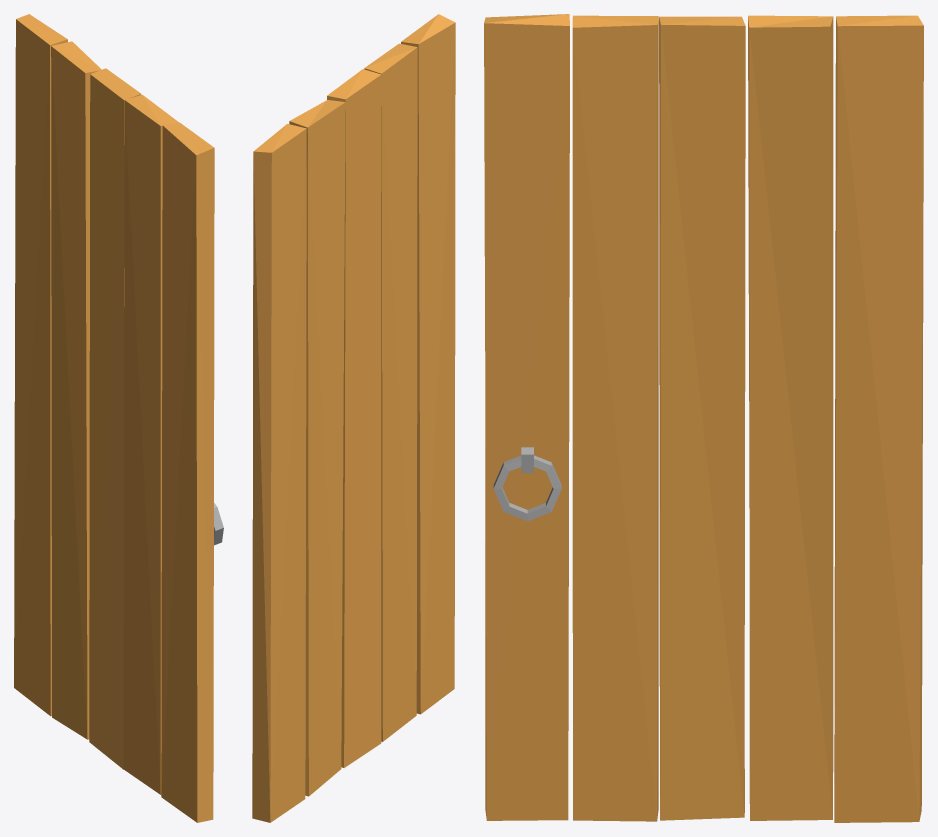
Rendered from rigt_door.fbx.
The picture shows the model from 3 angles, left to right: view 1: azimuth 30°, elevation 25°; view 2: azimuth 150°, elevation 25°; view 3: azimuth 270°, elevation 25°; orthographic projection. The views are drawn at different scales.
Parts seen in each view (by area): view 1: rigt_door; view 2: rigt_door; view 3: rigt_door.
Boxes of the visible parts, bbox=[...] form: rigt_door: bbox=[14, 14, 223, 822]; rigt_door: bbox=[252, 14, 455, 822]; rigt_door: bbox=[484, 14, 923, 822].
Size of the model in its own units: 0.1104 by 2.06 by 1.03.
